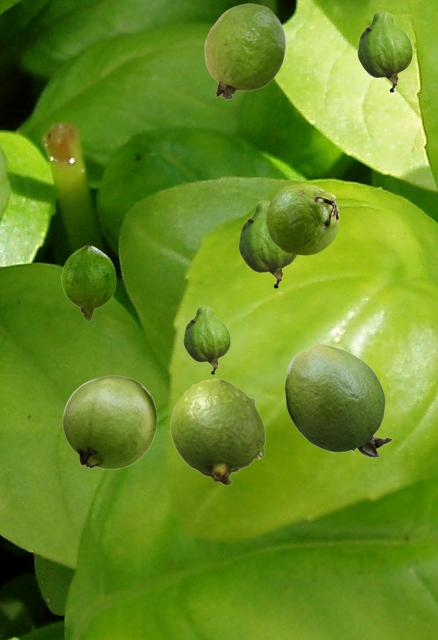guava: (284, 343, 391, 456), (170, 378, 264, 484), (62, 375, 156, 468), (204, 3, 285, 99), (238, 200, 297, 287), (266, 183, 338, 254), (357, 10, 411, 91), (61, 245, 115, 320), (183, 305, 229, 373)
